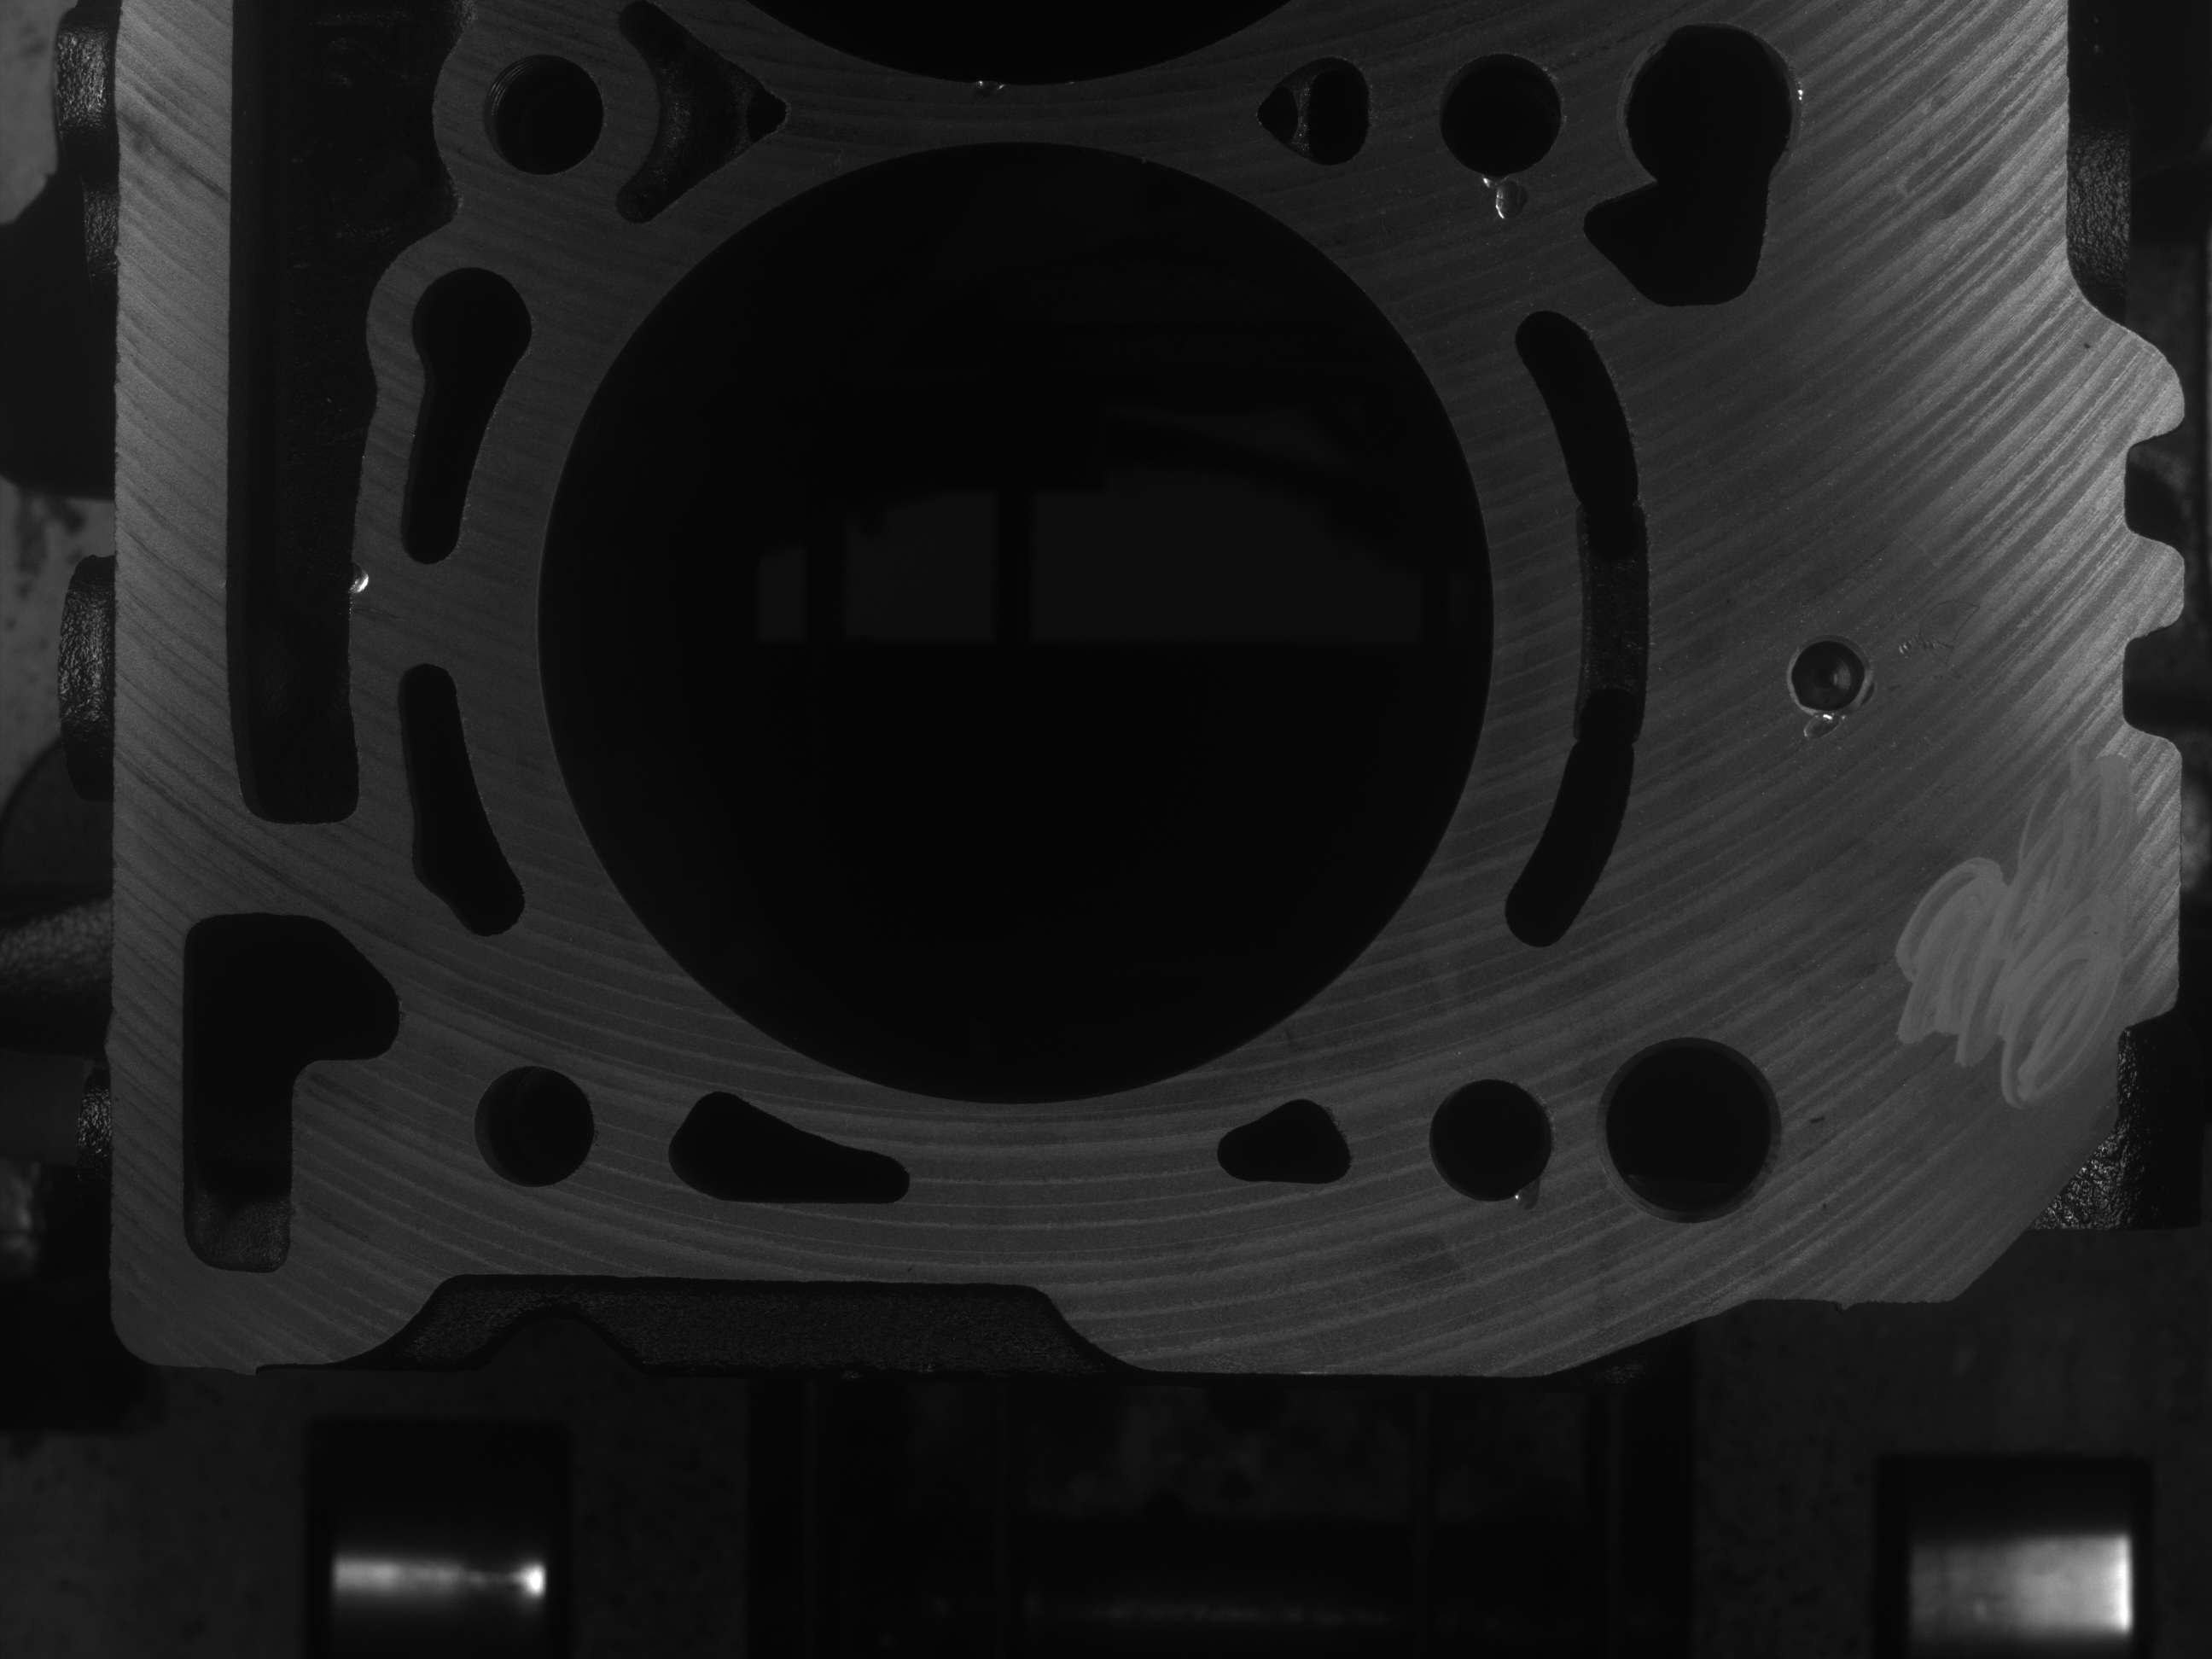dirty: (1876, 786, 2118, 1119)
sandhole: (1491, 171, 1536, 220), (1503, 1176, 1555, 1218), (1797, 701, 1839, 744)
shrinkage: (343, 540, 373, 605)
